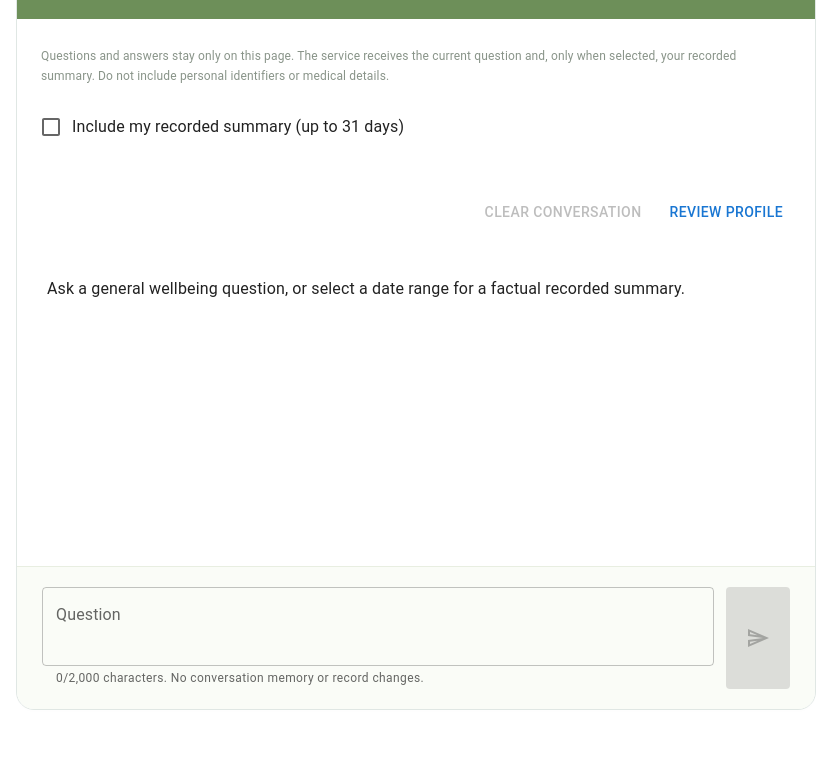
Test case: A09 owner/consent-safe stateless Q&A UI with controlled API › sends one question only after explicit action, preserves next typed input and renders untrusted answer as plain text
(page scrolled)
In the text box labelled "Question": (378, 627) [56,604,700,650], type "First private question"
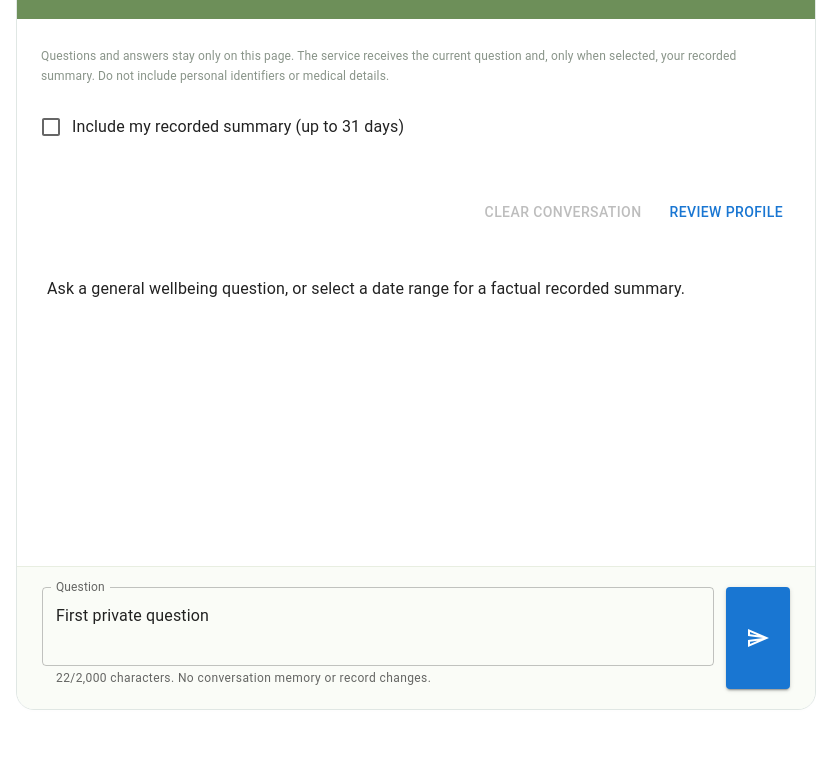
Result: the button named "Send question" is enabled
Click the button named "Send question": click(758, 638) [726,587,790,689]
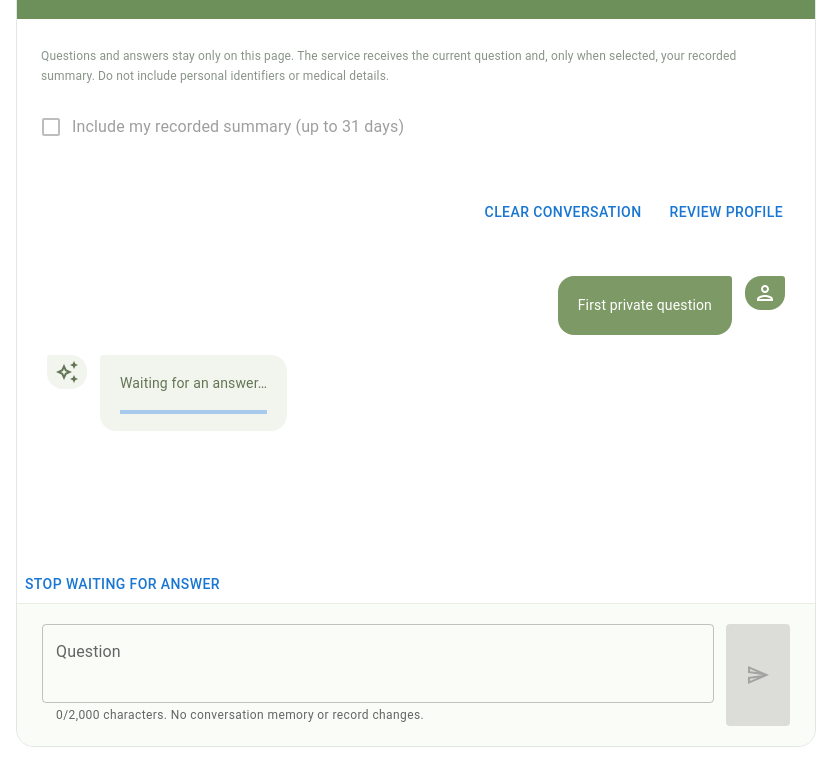
In the text box labelled "Question": (378, 663) [56,640,700,686], type "Next question stays typed"
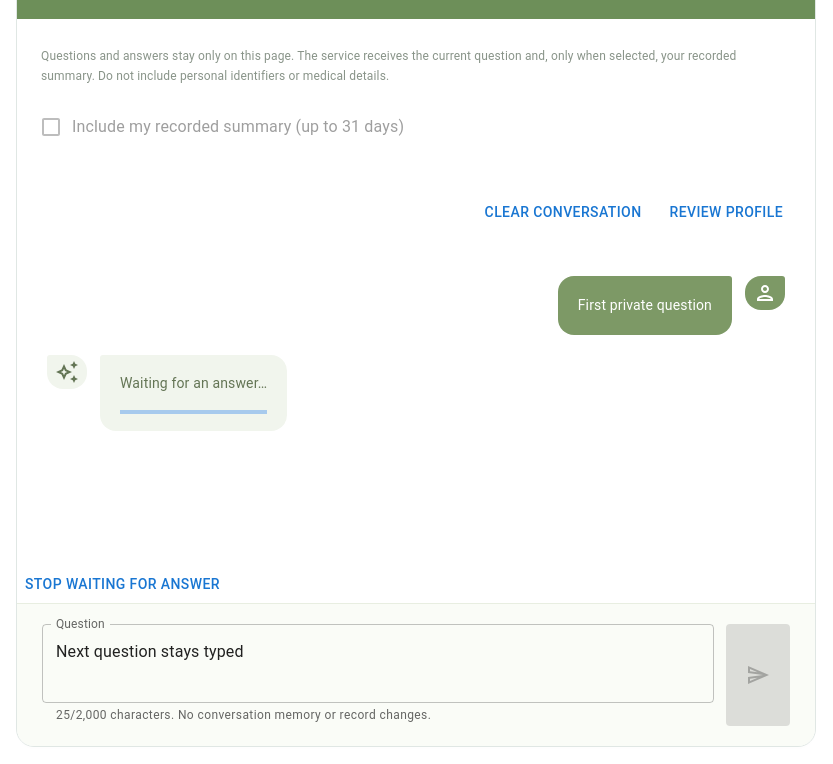
Click the button named "Send question": click(758, 675) [726,624,790,726]
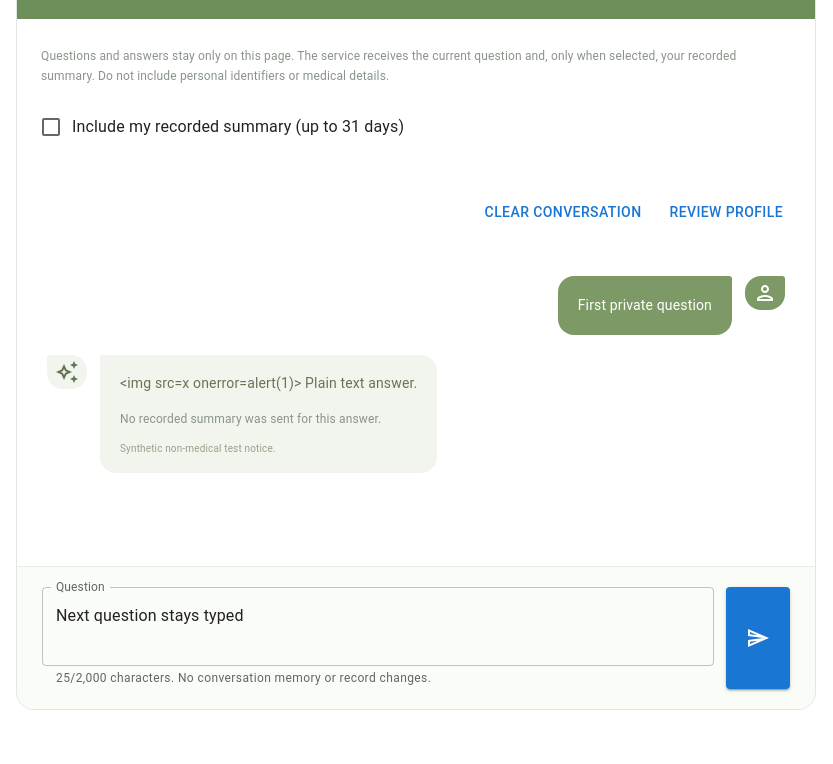
Result: the text "<img src=x onerror=alert(1)> Plain text answer." is shown at [120,372,417,396]
Result: the text "Synthetic non-medical test notice." is shown at [120,443,276,454]
